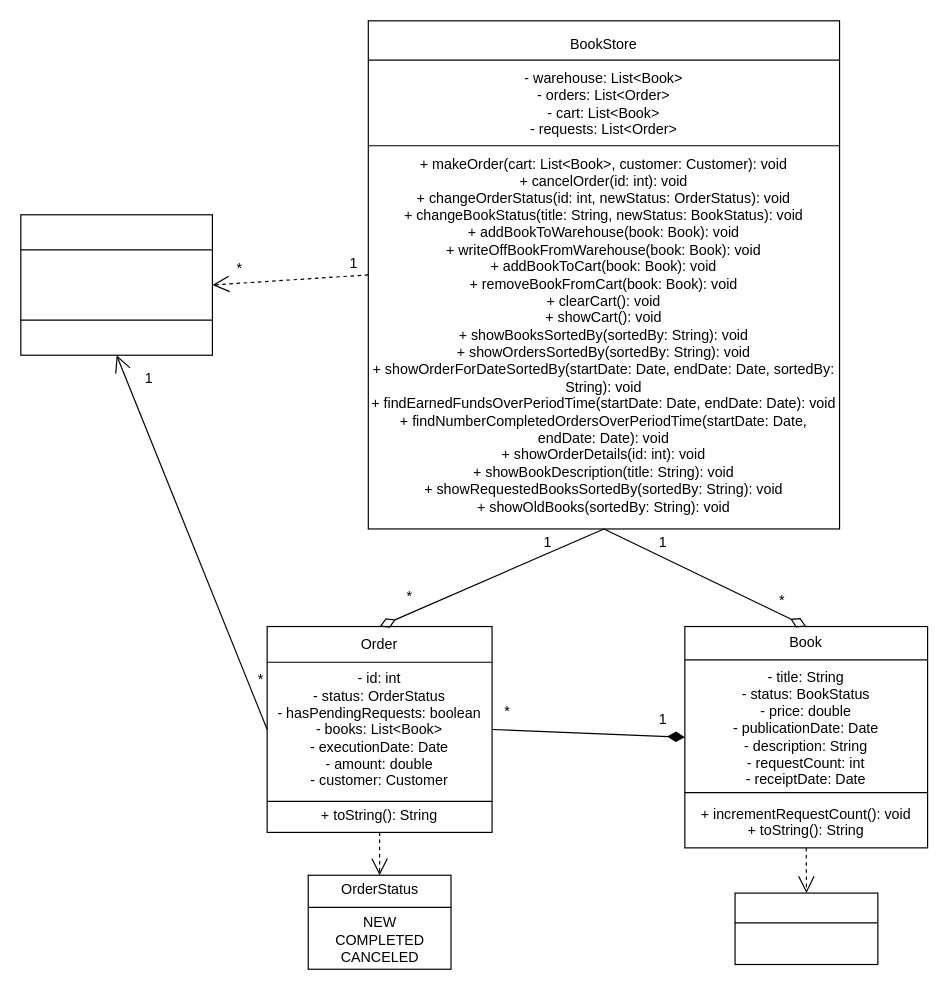
Image size: 950x990. Some labels were removed from this diagram. The centre of each missing label's shape, as x and y in pixels:
"BookStatus AVAILABLE UNAVAILABLE" belongs at pixel 806 928.
"Customer - id: int - name: String - email: String + toString(): String" belongs at pixel 116 284.
